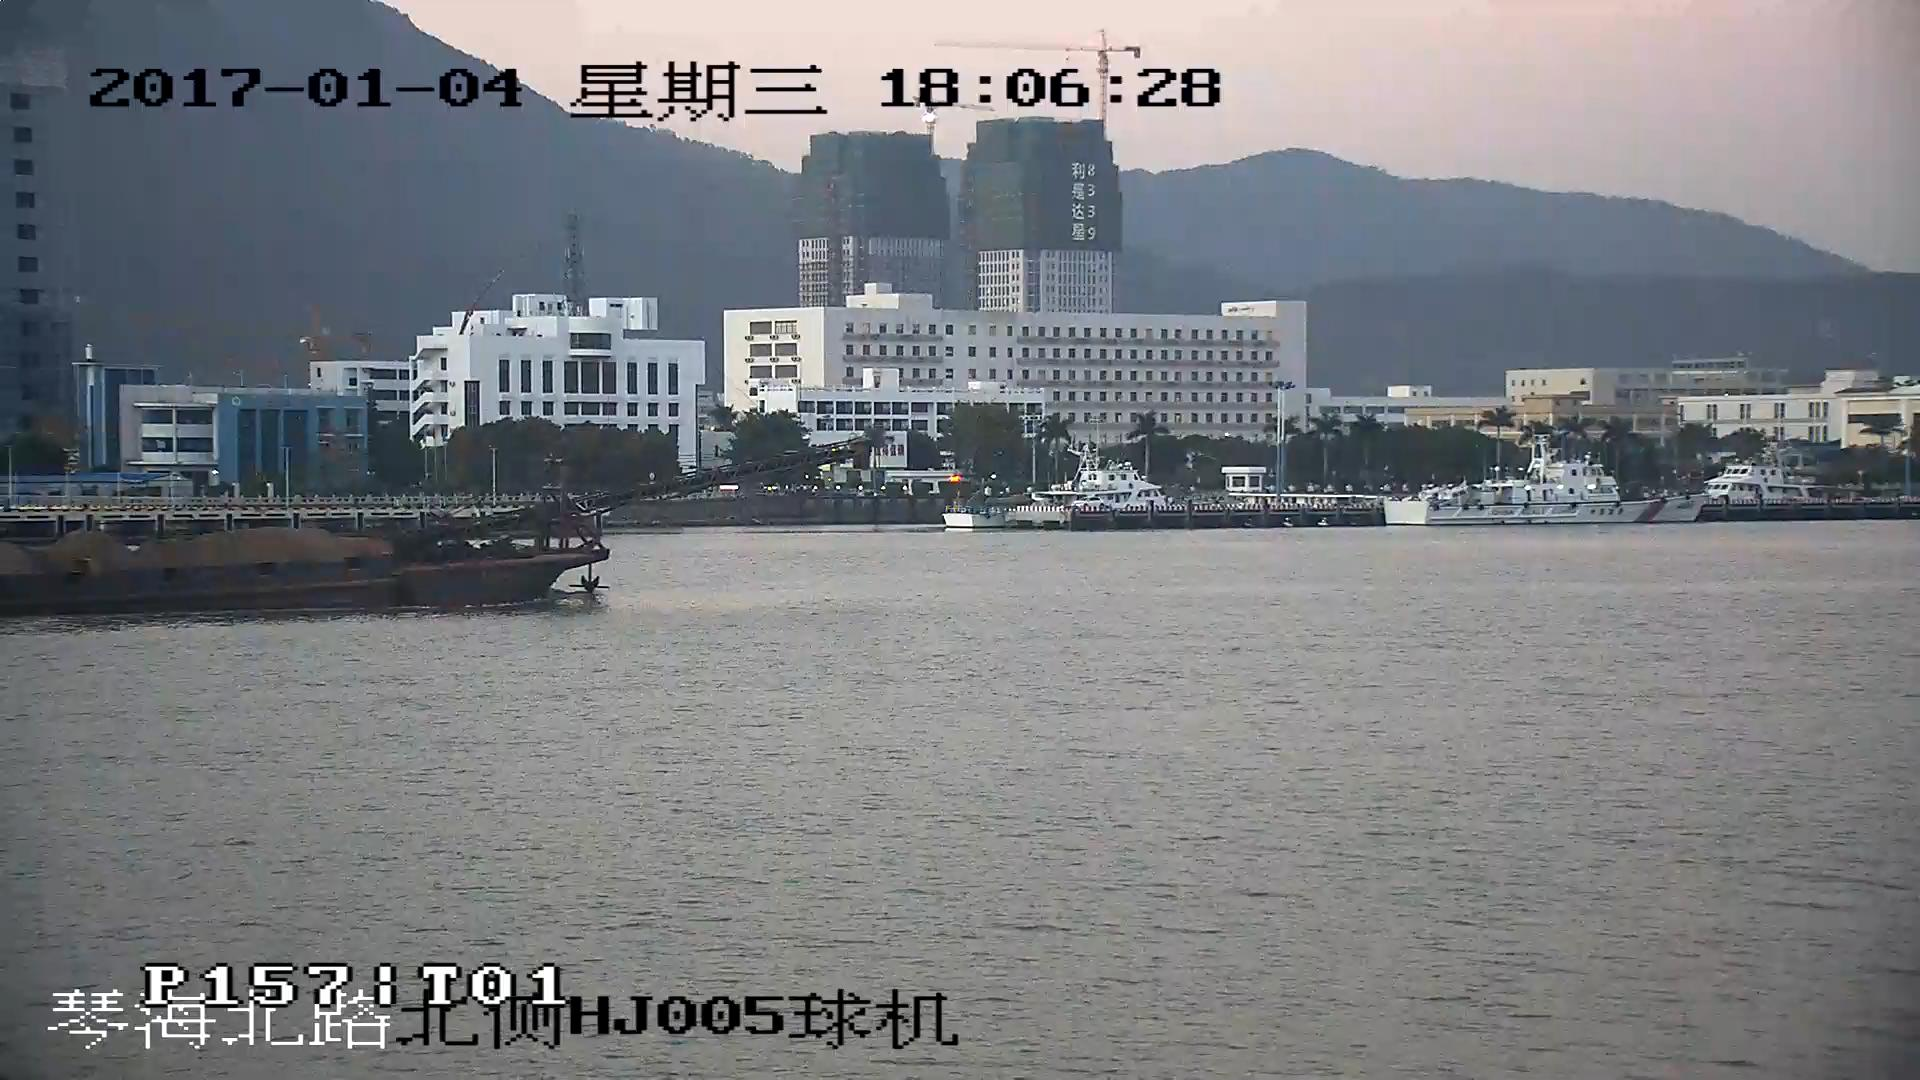ore carrier: (1, 454, 824, 609)
